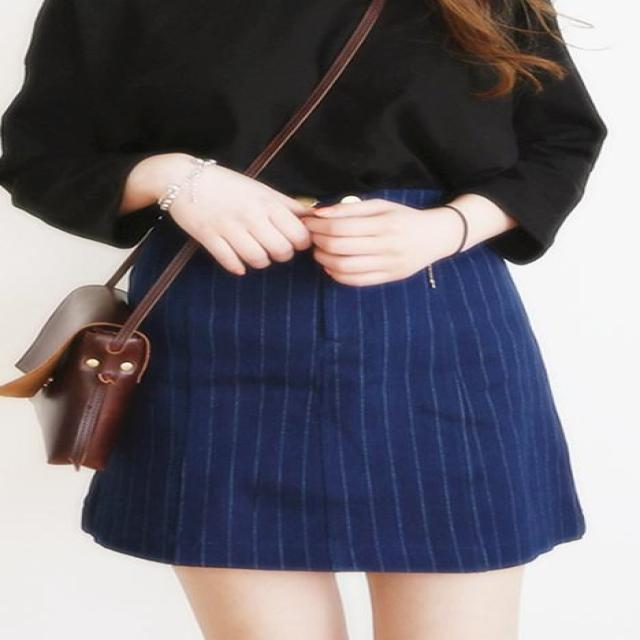long sleeve top: (5, 2, 609, 263)
skirt: (86, 188, 585, 567)
